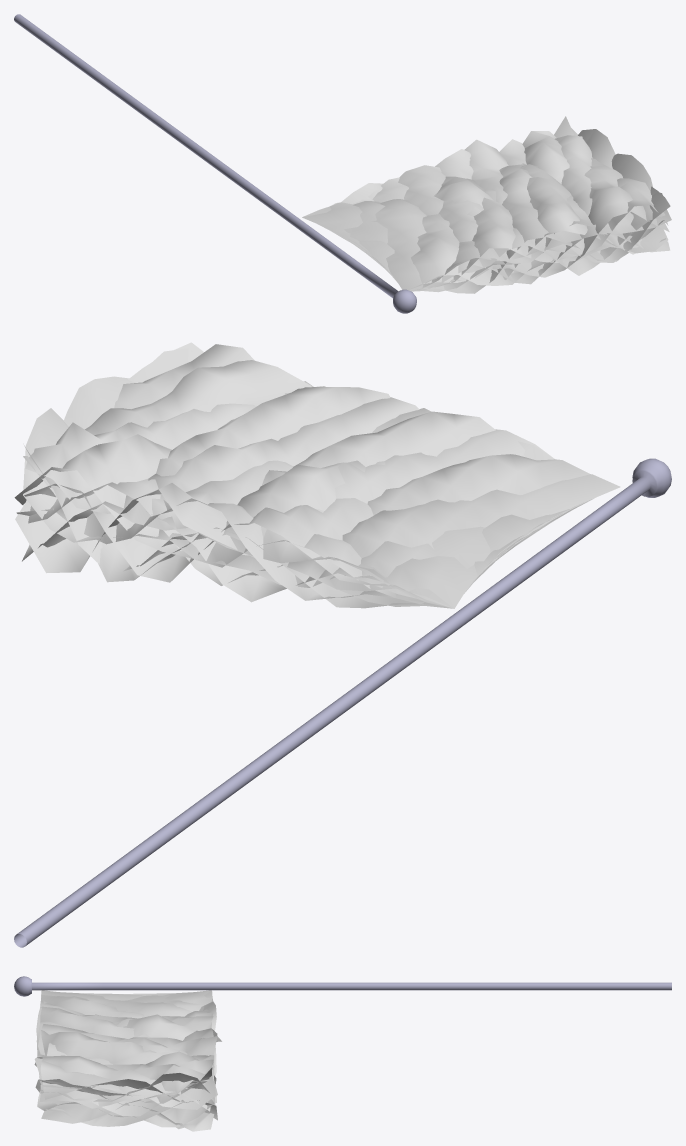
The model's file is free_flags_OBJ.obj.
The picture shows the model from 3 angles, top to bottom: view 1: azimuth 30°, elevation 25°; view 2: azimuth 150°, elevation 25°; view 3: azimuth 270°, elevation 25°; orthographic projection. The views are drawn at different scales.
Parts seen in each view (by area): view 1: (null); view 2: (null); view 3: (null).
Boxes of the visible parts, box(x1,y1,x2,y2) form: (null): box(14, 14, 671, 313); (null): box(14, 342, 671, 947); (null): box(14, 976, 671, 1131).
Bounding box in the file's own units: 170 × 41.53 × 385.
